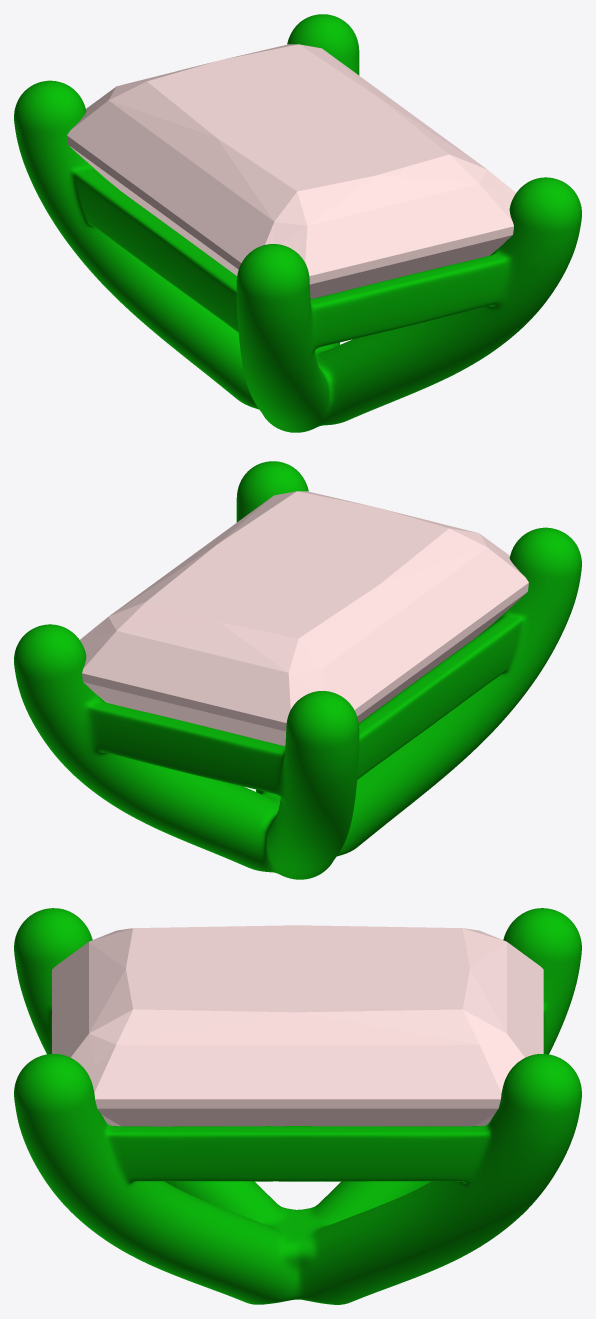
3 renders of one model, top to bottom at view 1: azimuth 30°, elevation 25°; view 2: azimuth 150°, elevation 25°; view 3: azimuth 270°, elevation 25°, orthographic. The views are drawn at different scales.
Parts seen in each view (by area): view 1: Metal01, Diamond_Radiant; view 2: Metal01, Diamond_Radiant; view 3: Metal01, Diamond_Radiant.
Boxes of the visible parts, left/top/right/bottom form: Metal01: left=14, top=14, right=581, bottom=432; Diamond_Radiant: left=67, top=44, right=515, bottom=298; Metal01: left=14, top=461, right=581, bottom=879; Diamond_Radiant: left=80, top=491, right=528, bottom=745; Metal01: left=14, top=908, right=581, bottom=1304; Diamond_Radiant: left=52, top=925, right=543, bottom=1126.
Bounding box in the file's own units: 6.91 × 5.76 × 9.24.
